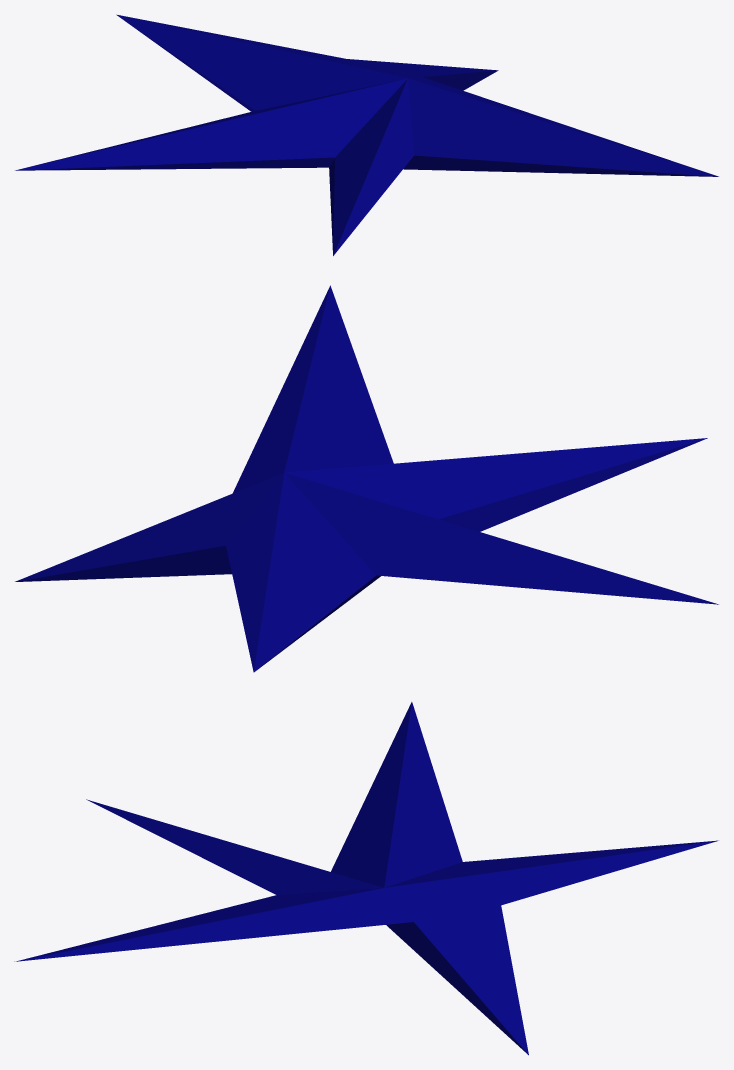
The model's file is koncanaZvezda.fbx.
3 renders of one model, top to bottom at view 1: azimuth 30°, elevation 25°; view 2: azimuth 150°, elevation 25°; view 3: azimuth 270°, elevation 25°, orthographic. The views are drawn at different scales.
Parts seen in each view (by area): view 1: Mesh; view 2: Mesh; view 3: Mesh.
Part boxes in pixels (x1,y1,x2,y2): Mesh: (15,14,718,255); Mesh: (15,285,718,672); Mesh: (14,702,718,1055).
Bounding box in the file's own units: 472 × 67.66 × 506.
